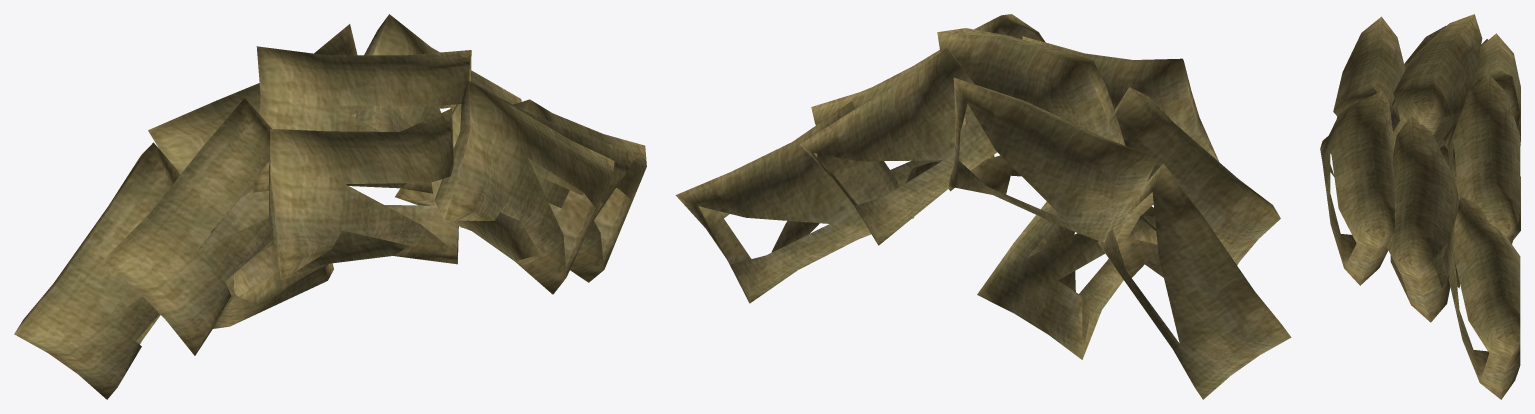
Rendered from sandbag.obj.
3 views of the same model, side by side, from view 1: azimuth 30°, elevation 25°; view 2: azimuth 150°, elevation 25°; view 3: azimuth 270°, elevation 25° (orthographic). The views are drawn at different scales.
Parts seen in each view (by area): view 1: sandbags.corner1.mesh_0; view 2: sandbags.corner1.mesh_0; view 3: sandbags.corner1.mesh_0.
Part boxes in pixels (x1,y1,x2,y2): sandbags.corner1.mesh_0: (14,14,646,399); sandbags.corner1.mesh_0: (675,14,1291,399); sandbags.corner1.mesh_0: (1320,14,1520,399).
Bounding box in the file's own units: 143 × 70.1 × 49.87.
